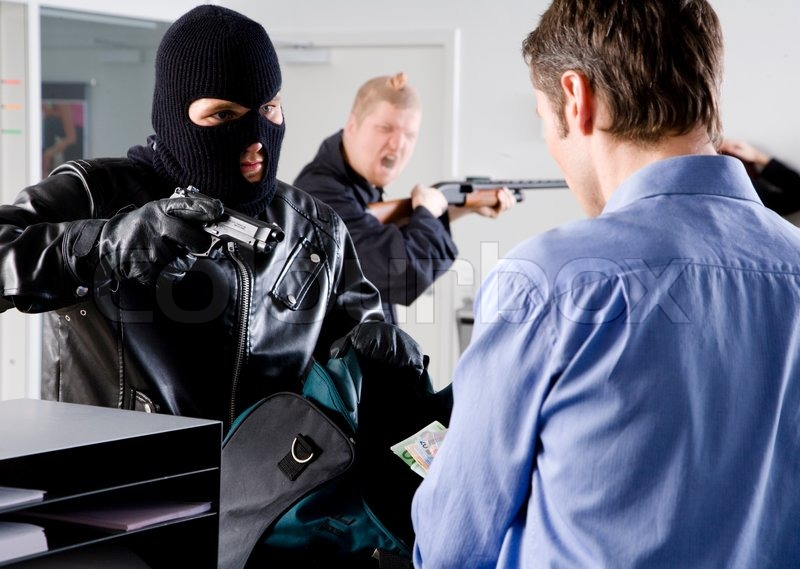gun: (158, 178, 298, 286), (366, 167, 585, 231)
